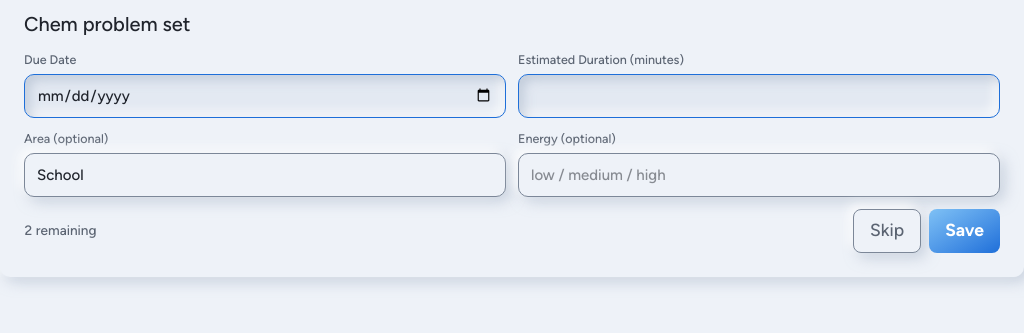
Test: SandboxCard › a rejected save shows the server's message inline, on this same card, and leaves it retryable
Type "2026-09-30" into the date field labelled "Due Date" at (265, 96), box [24, 74, 506, 118]
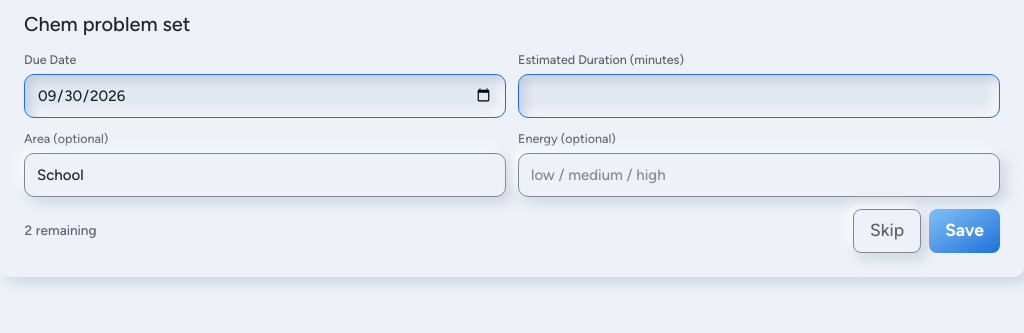
Type "45" into the number field labelled "Estimated Duration (minutes)" at (759, 96), box [518, 74, 1000, 118]
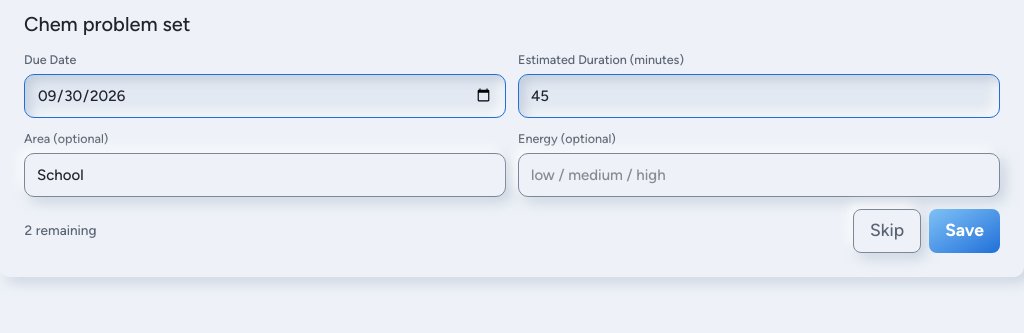
Click the button "Save" at (965, 230), box [929, 208, 1000, 252]
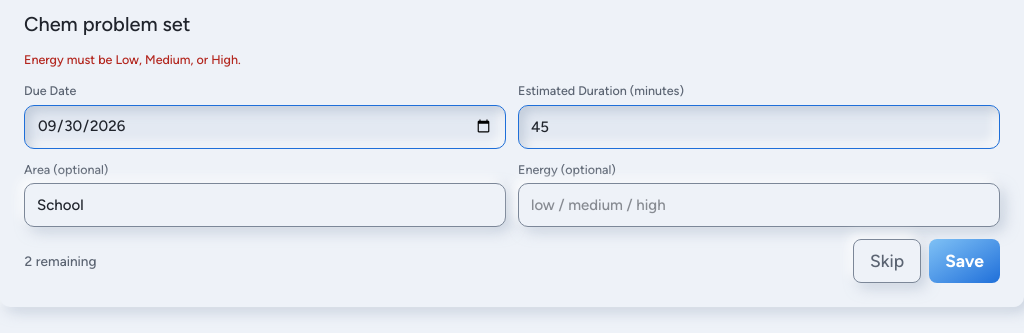
Expected: the button "Save" is enabled, [929, 239, 1000, 283]
Now the message reads "Energy must be Low, Medium, or High.", box [24, 52, 241, 67]
